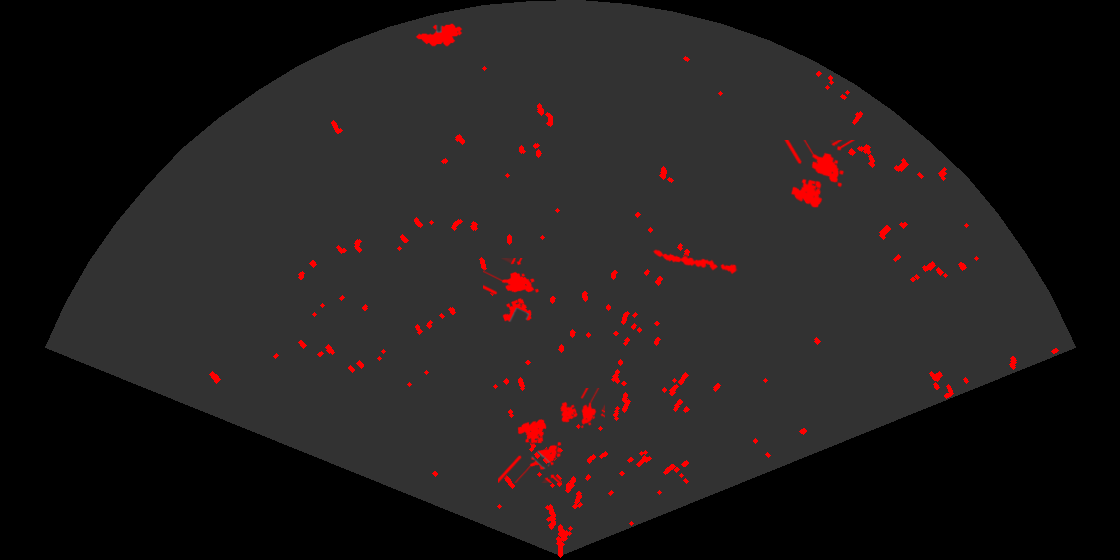AUV: (414, 22, 464, 47)
cage: (782, 140, 857, 209), (498, 417, 563, 483), (483, 258, 540, 323), (559, 388, 605, 430)
chain: (651, 248, 738, 276)
